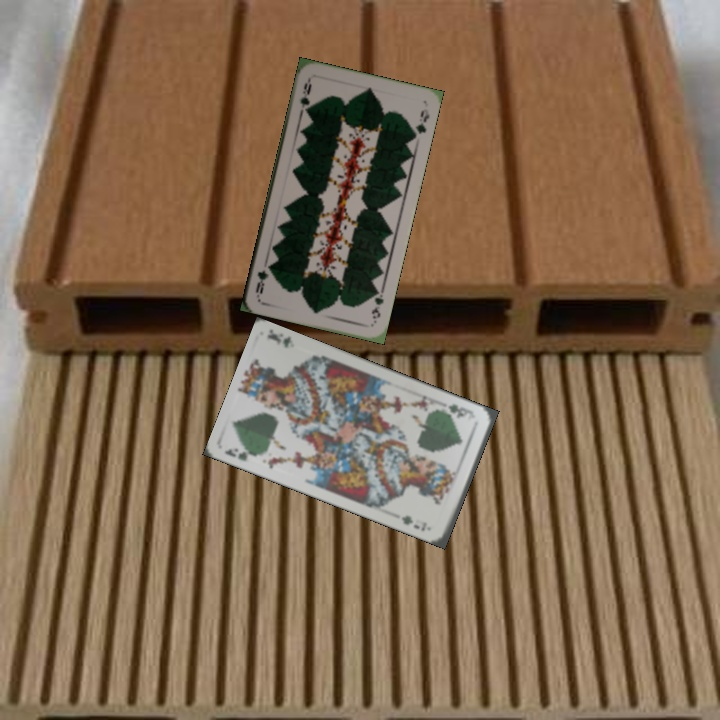G9: (367, 284, 387, 326), (296, 75, 314, 116)
GK: (220, 444, 262, 464), (444, 400, 475, 420)
